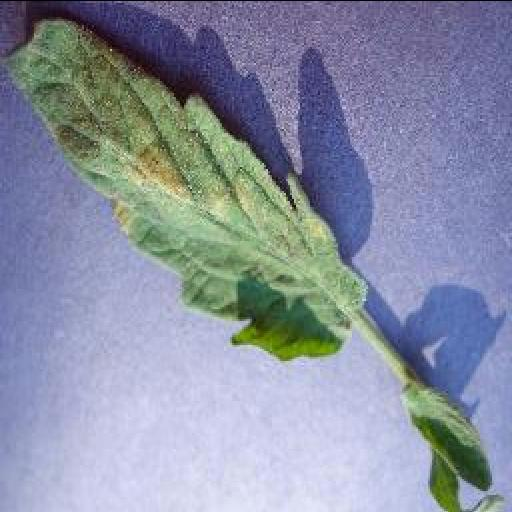disease_tomato: (0, 14, 370, 360)
